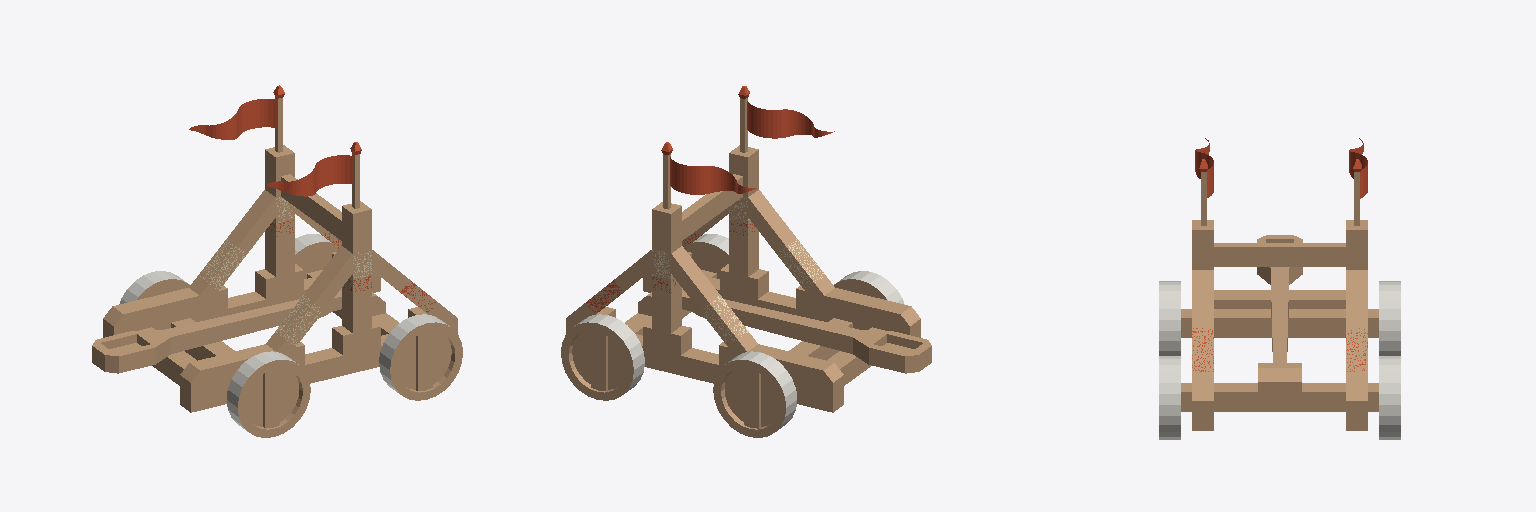
File: siegeCatapultRed.obj
3 renders of one model, left to right at view 1: azimuth 30°, elevation 25°; view 2: azimuth 150°, elevation 25°; view 3: azimuth 270°, elevation 25°, orthographic.
Parts seen in each view (by area): view 1: body 6, catapult 4, wheelBackRight 8, wheelFrontRight 11, flag 22, flag 23, wheelFrontLeft 11, wheelBackLeft 8; view 2: body 6, catapult 4, wheelBackLeft 8, wheelFrontLeft 11, flag 22, flag 23, wheelFrontRight 11, wheelBackRight 8; view 3: body 6, catapult 4, wheelFrontLeft 11, wheelFrontRight 11, wheelBackLeft 8, wheelBackRight 8, flag 22, flag 23.
Part boxes in pixels (x1,y1,x2,y2): body 6: (103,145,457,412); catapult 4: (92,290,341,373); wheelBackRight 8: (227,351,310,437); wheelFrontRight 11: (379,314,462,400); flag 22: (189,85,284,152); flag 23: (265,142,361,208); wheelFrontLeft 11: (295,234,338,318); wheelBackLeft 8: (119,271,189,304); body 6: (566,145,920,412); catapult 4: (682,290,931,373); wheelBackLeft 8: (713,351,796,437); wheelFrontLeft 11: (561,314,644,400); flag 22: (661,142,756,209); flag 23: (738,86,834,152); wheelFrontRight 11: (685,234,728,318); wheelBackRight 8: (834,271,904,304); body 6: (1181,220,1378,430); catapult 4: (1257,235,1302,362); wheelFrontLeft 11: (1379,356,1400,439); wheelFrontRight 11: (1159,356,1180,439); wheelBackLeft 8: (1379,281,1400,355); wheelBackRight 8: (1159,281,1180,355); flag 22: (1349,138,1367,225); flag 23: (1195,138,1213,225).
Size of the model in its own units: 17.35 by 13.3 by 11.57.